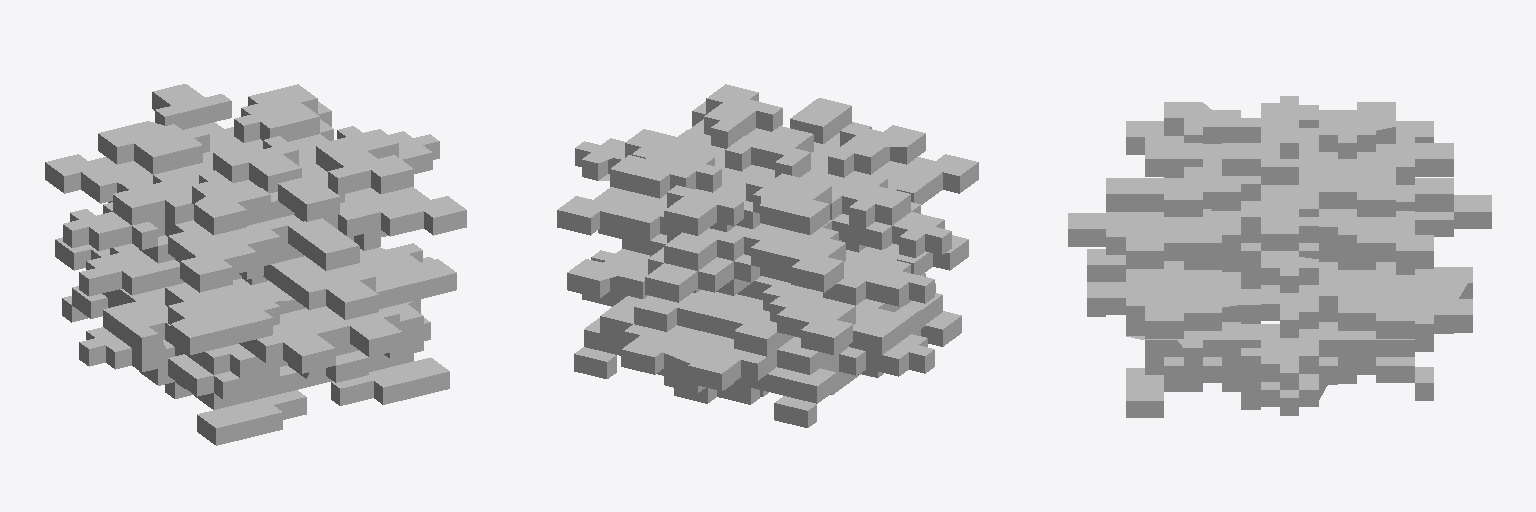
File: AllModelsFileConverter2.obj
3 renders of one model, left to right at view 1: azimuth 30°, elevation 25°; view 2: azimuth 150°, elevation 25°; view 3: azimuth 270°, elevation 25°, orthographic.
Visible parts, largest first — view 1: grass; view 2: grass; view 3: grass.
Part boxes in pixels (left/top/right/bottom): grass: left=45, top=84, right=466, bottom=445; grass: left=557, top=84, right=978, bottom=427; grass: left=1068, top=96, right=1491, bottom=417.
Size of the model in its own units: 1.38 by 0.75 by 1.38.